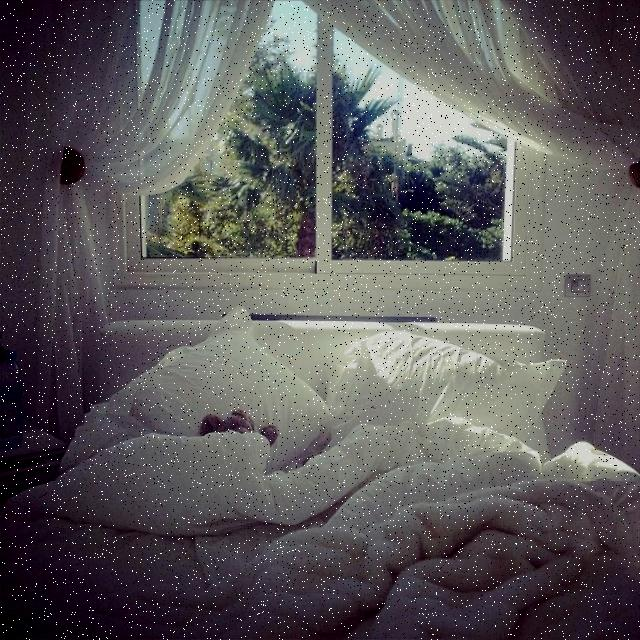bed: (52, 325, 639, 640)
